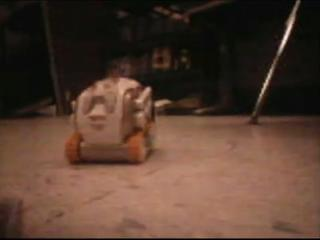cozmo: (64, 53, 166, 165)
